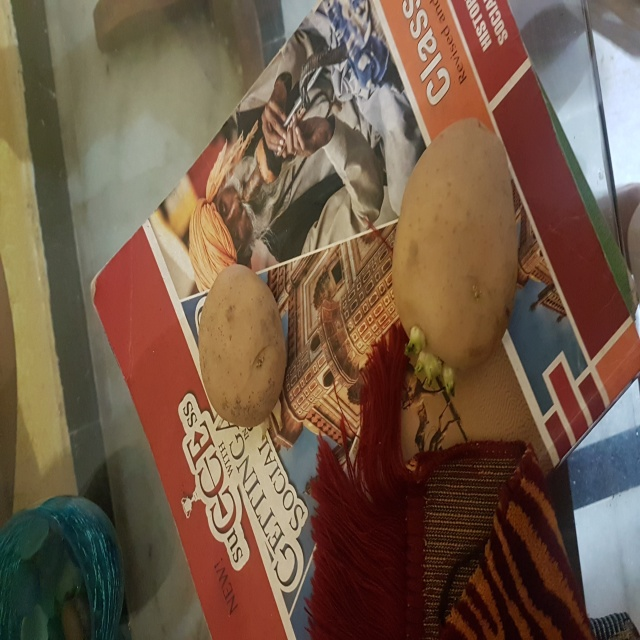potato: (386, 110, 528, 392), (197, 266, 294, 438)
